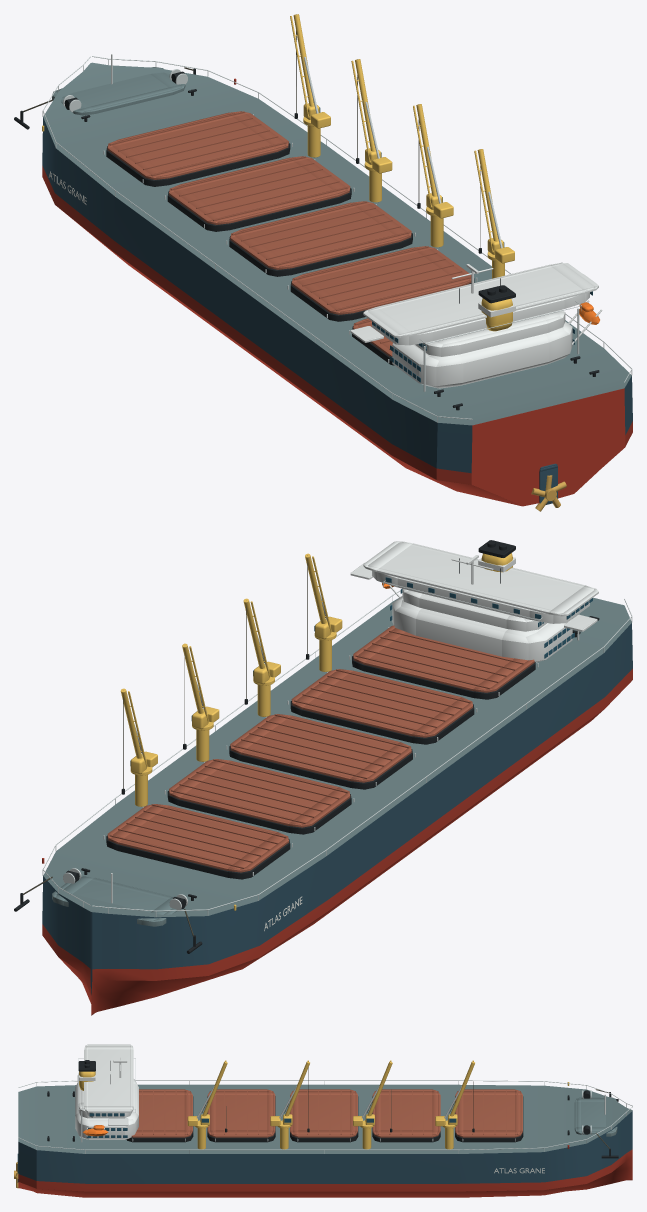
Rendered from graneleiro.glb.
3 views of the same model, one above another, from view 1: azimuth 30°, elevation 25°; view 2: azimuth 150°, elevation 25°; view 3: azimuth 270°, elevation 25° (orthographic). The views are drawn at different scales.
Visible parts, largest first — view 1: navio_graneleiro; view 2: navio_graneleiro; view 3: navio_graneleiro.
Boxes of the visible parts, x1,y1,x2,y2 form: navio_graneleiro: (14, 14, 632, 511); navio_graneleiro: (14, 540, 632, 1015); navio_graneleiro: (14, 1044, 632, 1197).
Bounding box in the file's own units: 28.4 × 26.4 × 97.22.
